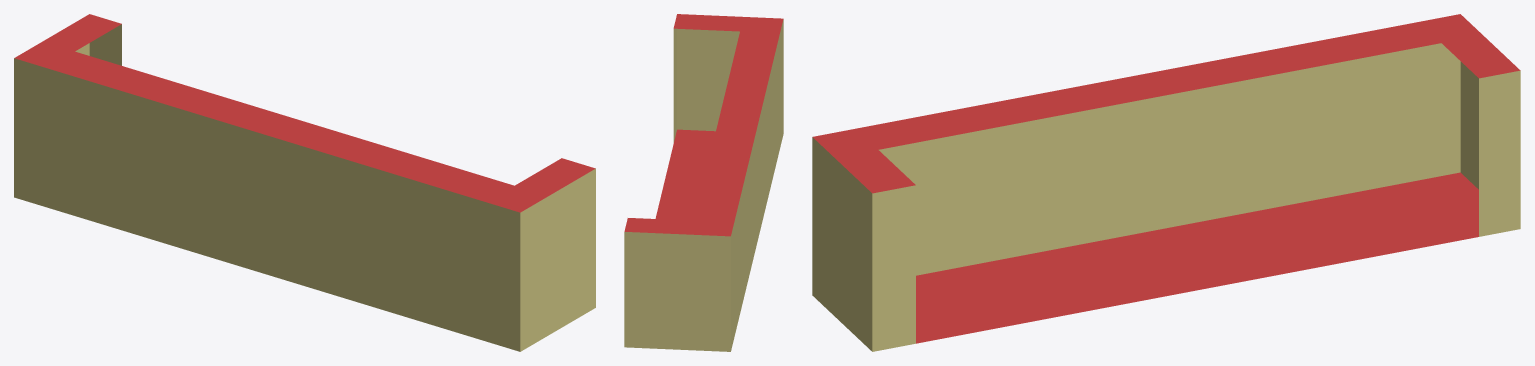
3 renders of one model, left to right at view 1: azimuth 30°, elevation 25°; view 2: azimuth 150°, elevation 25°; view 3: azimuth 270°, elevation 25°, orthographic. The views are drawn at different scales.
Size of the model in its own units: 20.27 by 33.8 by 8.35.
